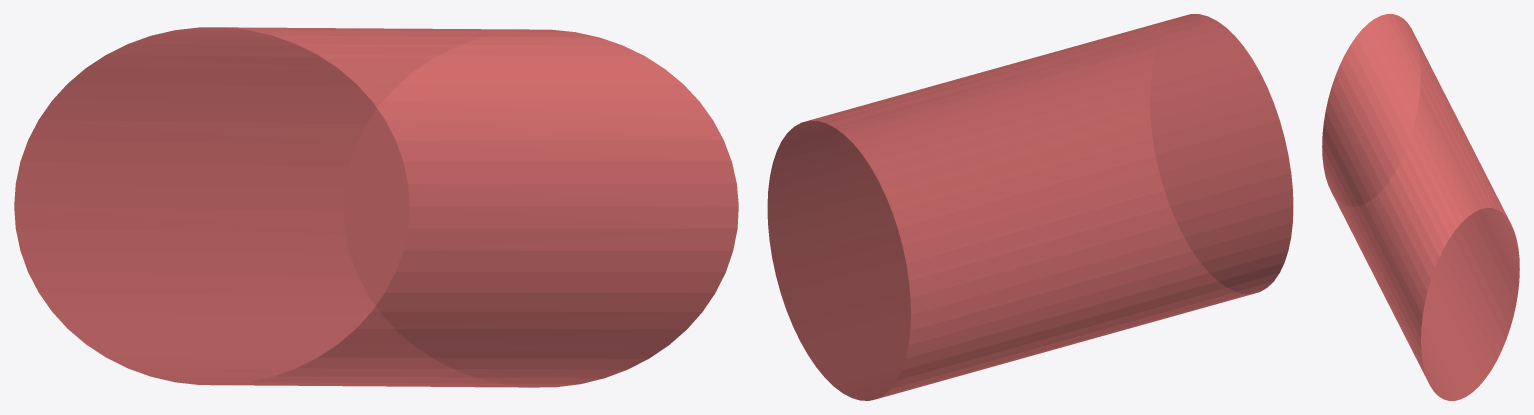
3 views of the same model, side by side, from view 1: azimuth 30°, elevation 25°; view 2: azimuth 150°, elevation 25°; view 3: azimuth 270°, elevation 25° (orthographic). The views are drawn at different scales.
Parts seen in each view (by area): view 1: root; view 2: root; view 3: root.
Part boxes in pixels (box(x1,y1,x2,y2)): root: box(14, 27, 738, 387); root: box(767, 14, 1293, 400); root: box(1322, 14, 1519, 400).
Size of the model in its own units: 8.46 by 5.99 by 4.
